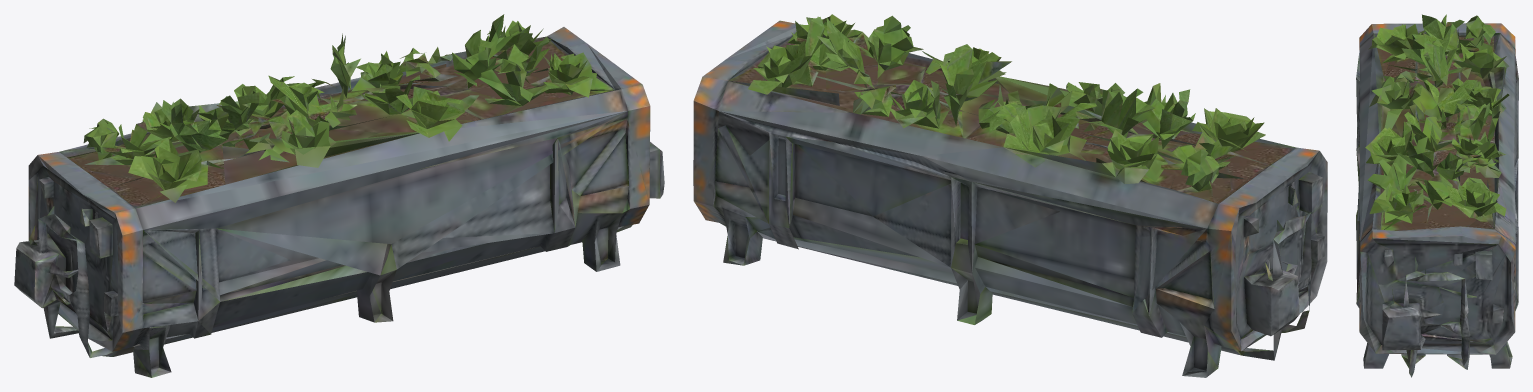
Rendered from planter.glb.
3 views of the same model, side by side, from view 1: azimuth 30°, elevation 25°; view 2: azimuth 150°, elevation 25°; view 3: azimuth 270°, elevation 25° (orthographic). The views are drawn at different scales.
Visible parts, largest first — view 1: Mesh_0; view 2: Mesh_0; view 3: Mesh_0.
Part boxes in pixels (x1,y1,x2,y2): Mesh_0: (14,14,664,377); Mesh_0: (693,14,1327,377); Mesh_0: (1356,14,1518,377).
Bounding box in the file's own units: 2.6 × 0.9719 × 0.751.
Materials: 1 (1 with a texture image).
